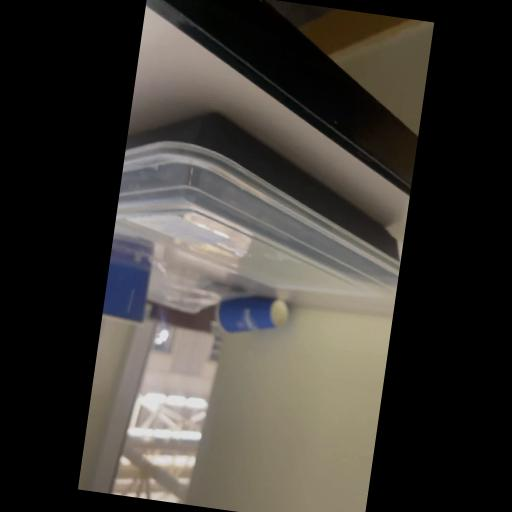rigid_plastic_container: (109, 98, 418, 310)
